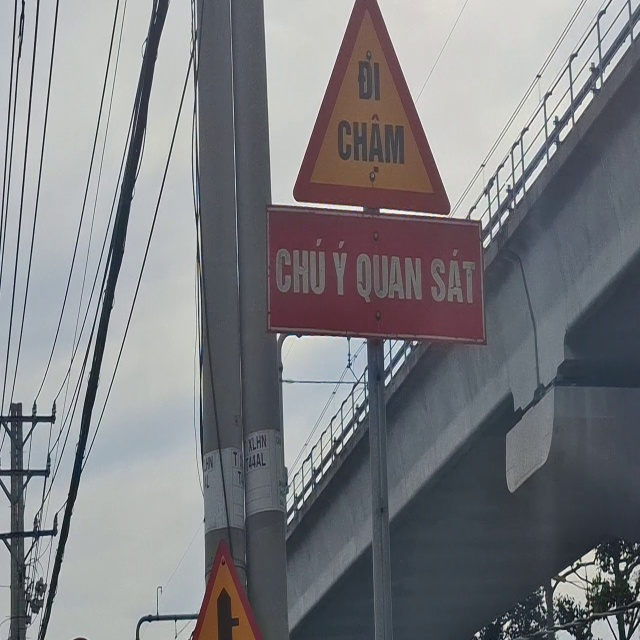di cham: (285, 1, 461, 224)
